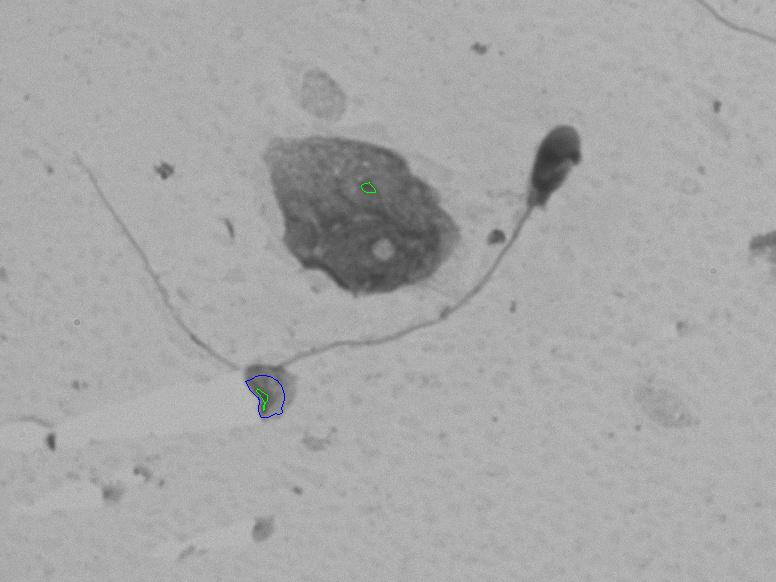Abnormal: (46, 109, 603, 390)
